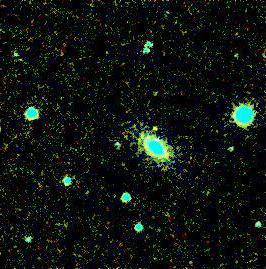star: (142, 112, 172, 142)
